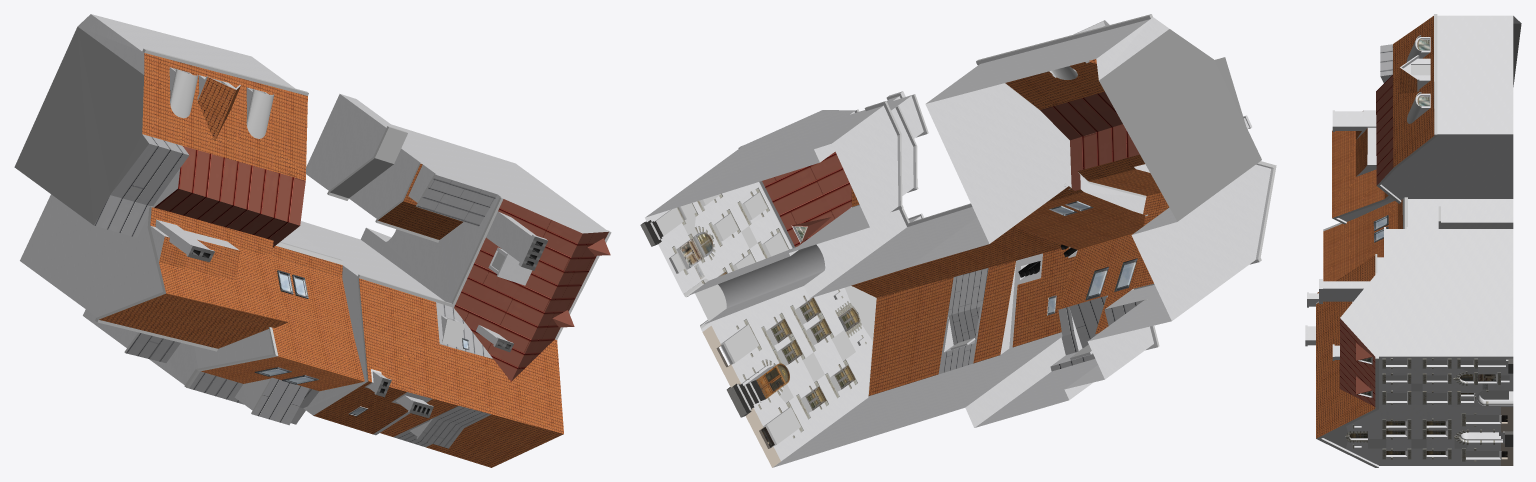
File: Rataskaevu_18.obj
The picture shows the model from 3 angles, left to right: view 1: azimuth 30°, elevation 25°; view 2: azimuth 150°, elevation 25°; view 3: azimuth 270°, elevation 25°; orthographic projection. The views are drawn at different scales.
Visible parts, largest first — view 1: Rataskaevu_18; view 2: Rataskaevu_18; view 3: Rataskaevu_18.
Part boxes in pixels (bbox=[...]): Rataskaevu_18: bbox=[14, 14, 611, 467]; Rataskaevu_18: bbox=[640, 14, 1276, 467]; Rataskaevu_18: bbox=[1305, 14, 1521, 467].
Size of the model in its own units: 35.33 by 30.96 by 17.66.
